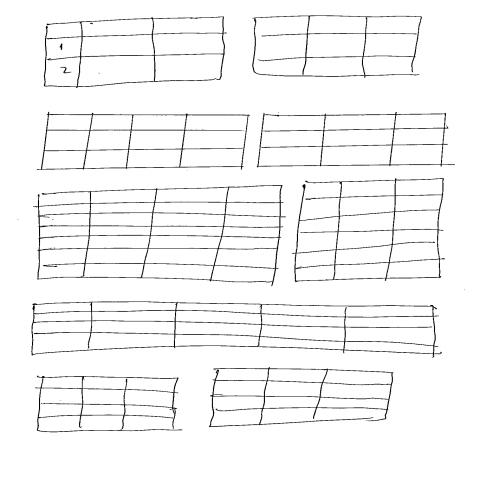Table: (35, 185, 283, 285), (30, 303, 437, 358), (292, 178, 445, 284), (42, 16, 227, 89), (38, 113, 251, 172), (208, 368, 396, 429), (255, 114, 448, 171), (250, 16, 423, 79), (36, 375, 182, 434)
